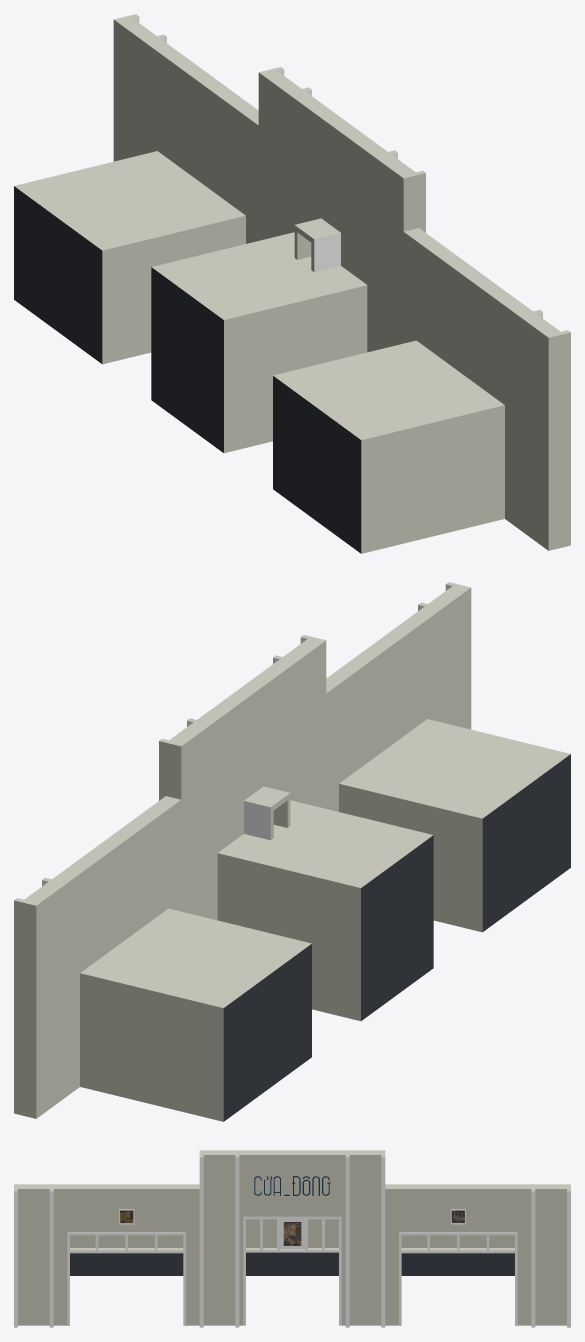
The model's file is cuaDong.glb.
3 renders of one model, top to bottom at view 1: azimuth 30°, elevation 25°; view 2: azimuth 150°, elevation 25°; view 3: azimuth 270°, elevation 25°, orthographic. The views are drawn at different scales.
Parts seen in each view (by area): view 1: _C-Component#17 (Loose Mesh).003, _C-Component#17 (Loose Mesh).002, _C-Component#8 (Loose Mesh).001, _C-Component#8 (Loose Mesh); view 2: _C-Component#17 (Loose Mesh).002, _C-Component#17 (Loose Mesh).003, _C-Component#8 (Loose Mesh), _C-Component#8 (Loose Mesh).001; view 3: _C-Component#17 (Loose Mesh).002, _C-Component#17 (Loose Mesh).003, _C-Component#8 (Loose Mesh).001, _C-Component#8 (Loose Mesh), C-Component#42, C-Component#51.
Boxes of the visible parts, <box> form: _C-Component#17 (Loose Mesh).003: <box>273,228,570,553</box>; _C-Component#17 (Loose Mesh).002: <box>14,14,258,364</box>; _C-Component#8 (Loose Mesh).001: <box>187,121,425,453</box>; _C-Component#8 (Loose Mesh): <box>151,67,345,426</box>; _C-Component#17 (Loose Mesh).002: <box>14,796,311,1121</box>; _C-Component#17 (Loose Mesh).003: <box>326,582,570,932</box>; _C-Component#8 (Loose Mesh): <box>159,689,397,1021</box>; _C-Component#8 (Loose Mesh).001: <box>239,635,433,994</box>; _C-Component#17 (Loose Mesh).002: <box>385,1184,570,1327</box>; _C-Component#17 (Loose Mesh).003: <box>14,1184,199,1327</box>; _C-Component#8 (Loose Mesh).001: <box>199,1150,292,1327</box>; _C-Component#8 (Loose Mesh): <box>292,1150,385,1327</box>; C-Component#42: <box>283,1222,301,1245</box>; C-Component#51: <box>292,1176,330,1195</box>.
Bounding box in the file's own units: 5.77 × 8.86 × 26.22.
6 materials, 2 textured.
